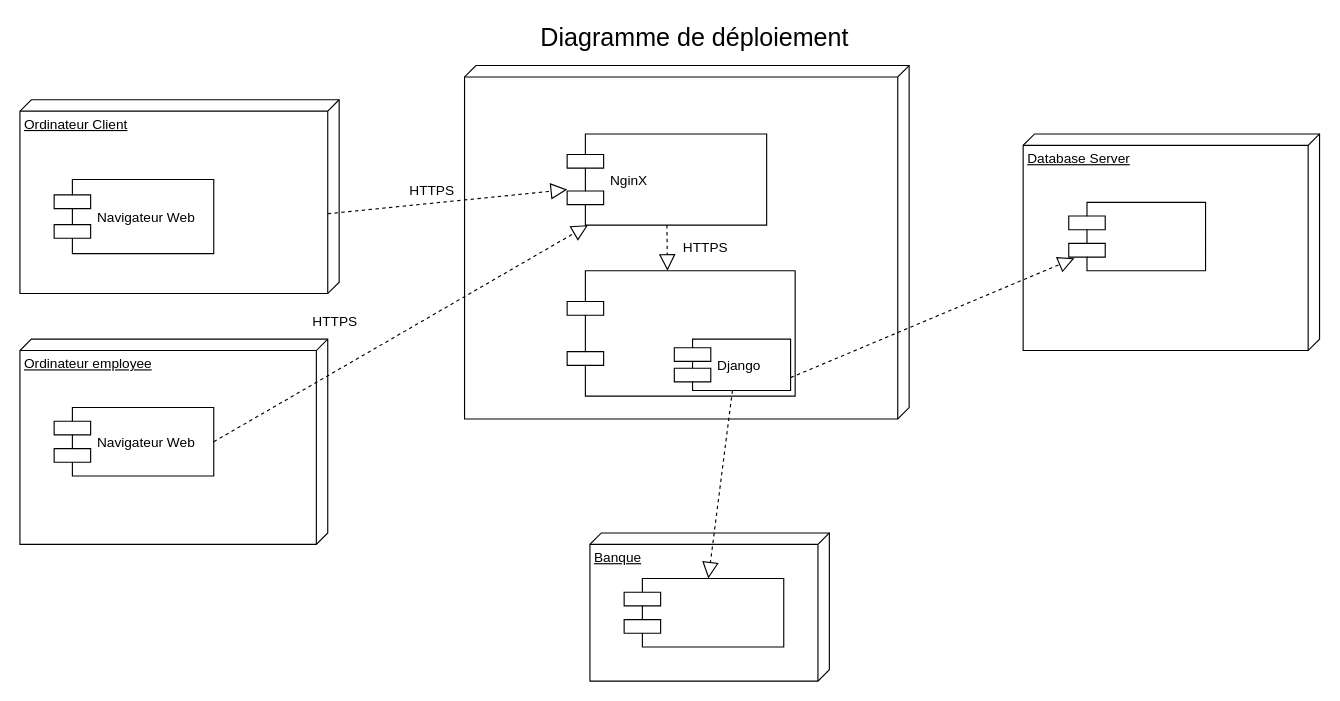
Some shapes in this 1340 by 701 pixel diagram are drawn without their labels. Here are the shapes that lost their labels. From the top down, the box of each, then its label:
(463, 64, 909, 419): Webserver
(1068, 201, 1206, 271): MySQL
(566, 270, 795, 396): Green Unicorn
(623, 577, 784, 647): Gestionnaire de transactions
